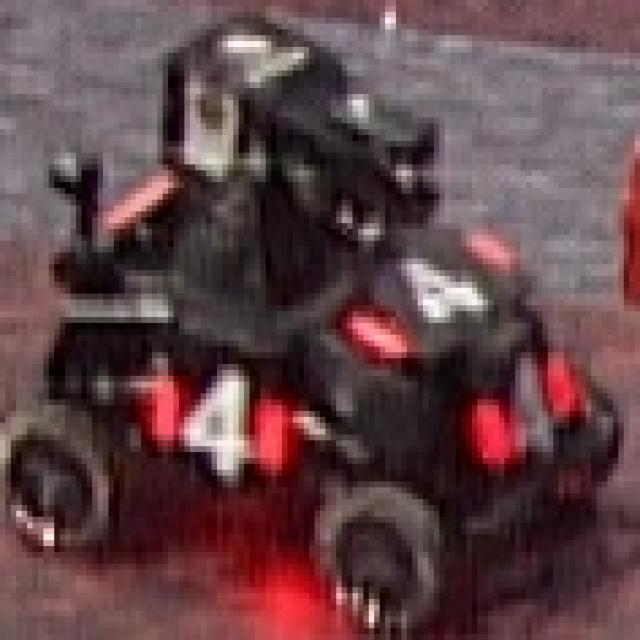R4: (146, 358, 288, 476), (466, 346, 575, 464)
